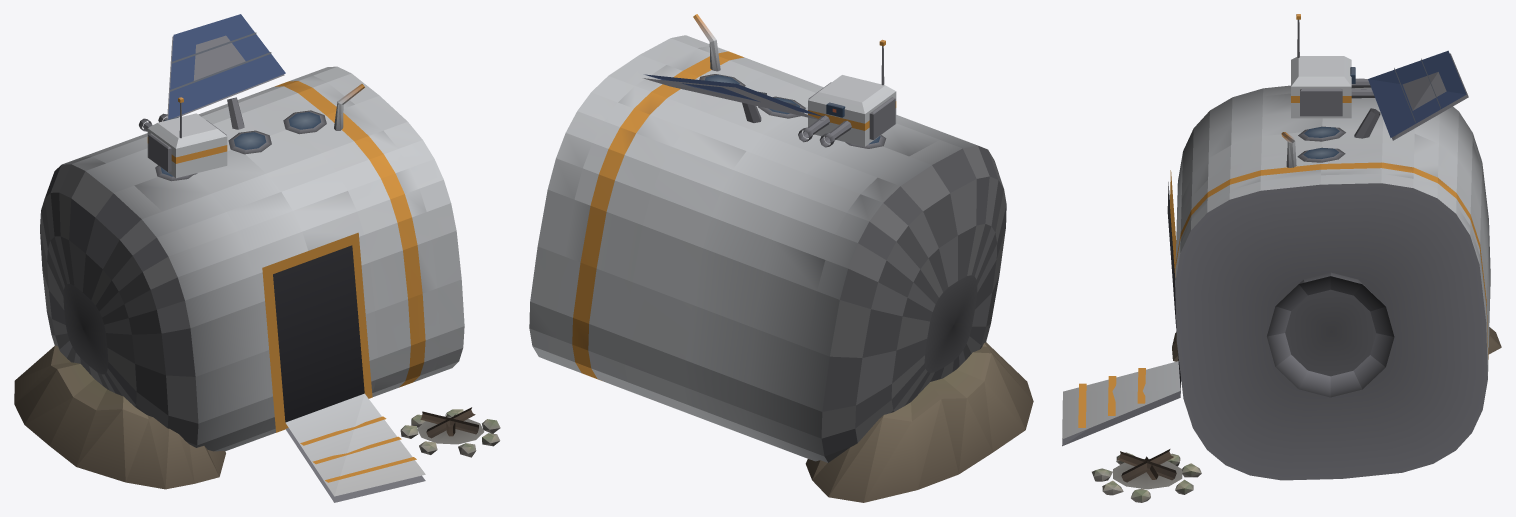
The model's file is cabin_a.glb.
3 views of the same model, side by side, from view 1: azimuth 30°, elevation 25°; view 2: azimuth 150°, elevation 25°; view 3: azimuth 270°, elevation 25° (orthographic). The views are drawn at different scales.
Parts seen in each view (by area): view 1: Stand, Head; view 2: Stand, Head; view 3: Stand, Head.
Part boxes in pixels (x1,y1,x2,y2): Stand: [14, 14, 500, 502]; Head: [139, 97, 227, 178]; Stand: [529, 14, 1033, 502]; Head: [798, 39, 896, 147]; Stand: [1062, 50, 1501, 502]; Head: [1291, 14, 1374, 118].
Size of the model in its own units: 3.09 by 2.73 by 2.89.
